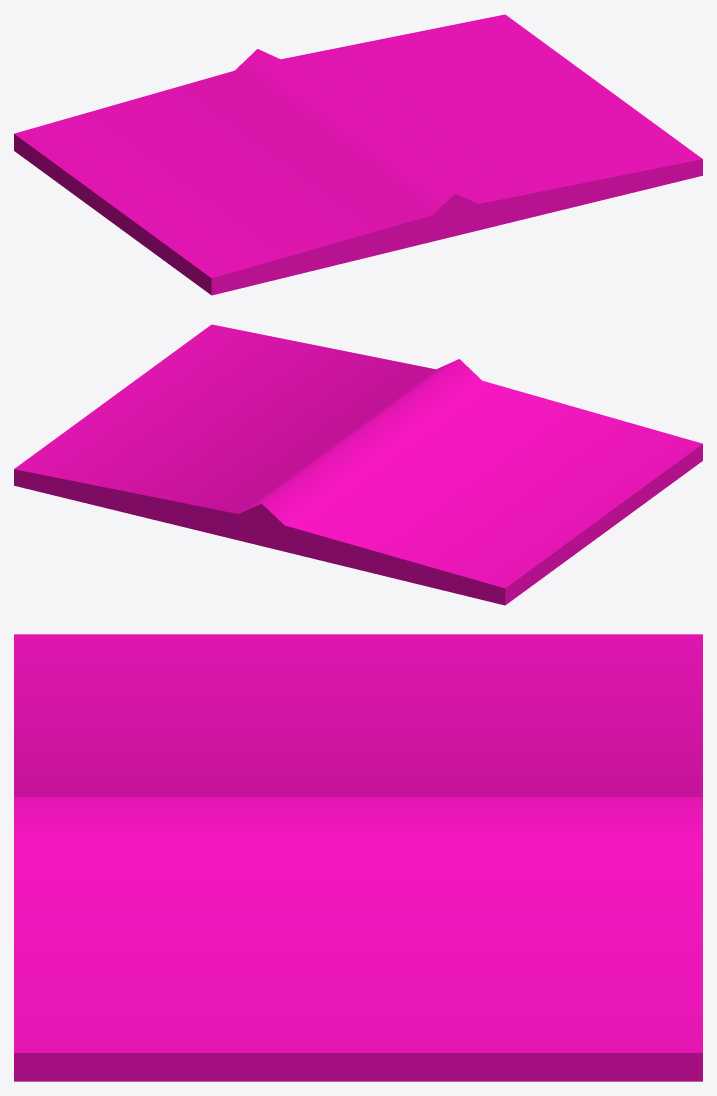
File: study_notepad_open_meshCollider.fbx
3 views of the same model, one above another, from view 1: azimuth 30°, elevation 25°; view 2: azimuth 150°, elevation 25°; view 3: azimuth 270°, elevation 25° (orthographic). The views are drawn at different scales.
Parts seen in each view (by area): view 1: study_notepad_open_meshCollider; view 2: study_notepad_open_meshCollider; view 3: study_notepad_open_meshCollider.
Boxes of the visible parts, box(x1,y1,x2,y2) form: study_notepad_open_meshCollider: box(14, 14, 702, 295); study_notepad_open_meshCollider: box(14, 324, 702, 605); study_notepad_open_meshCollider: box(14, 634, 702, 1081).
Size of the model in its own units: 31.01 by 2.57 by 21.62.
